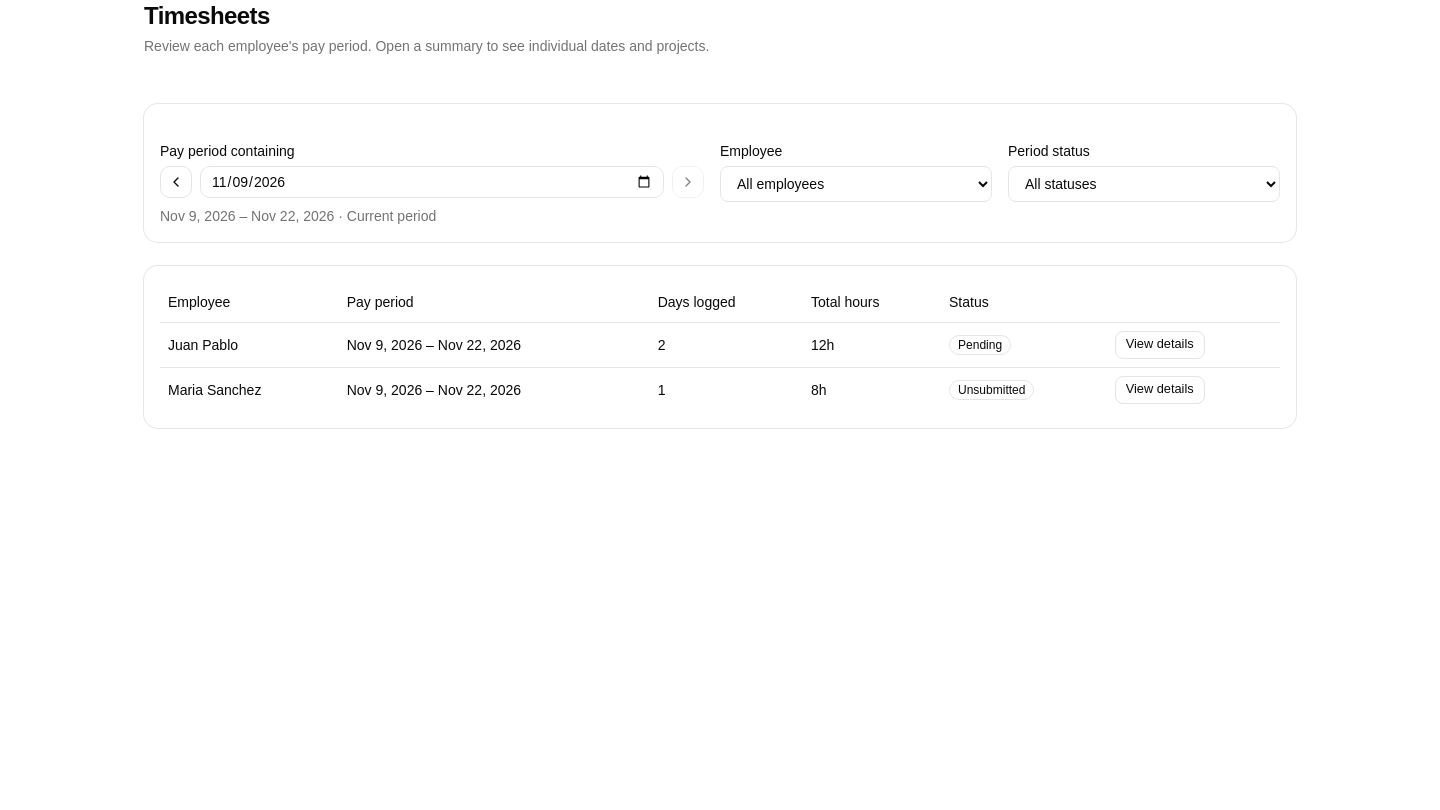
Test case: return for changes un-submits the employee’s period and updates its status
This screenshot has width=1440, height=810.
Click the button with aria-label "View Juan Pablo's timesheet details": (1160, 344) [1115,330,1205,358]
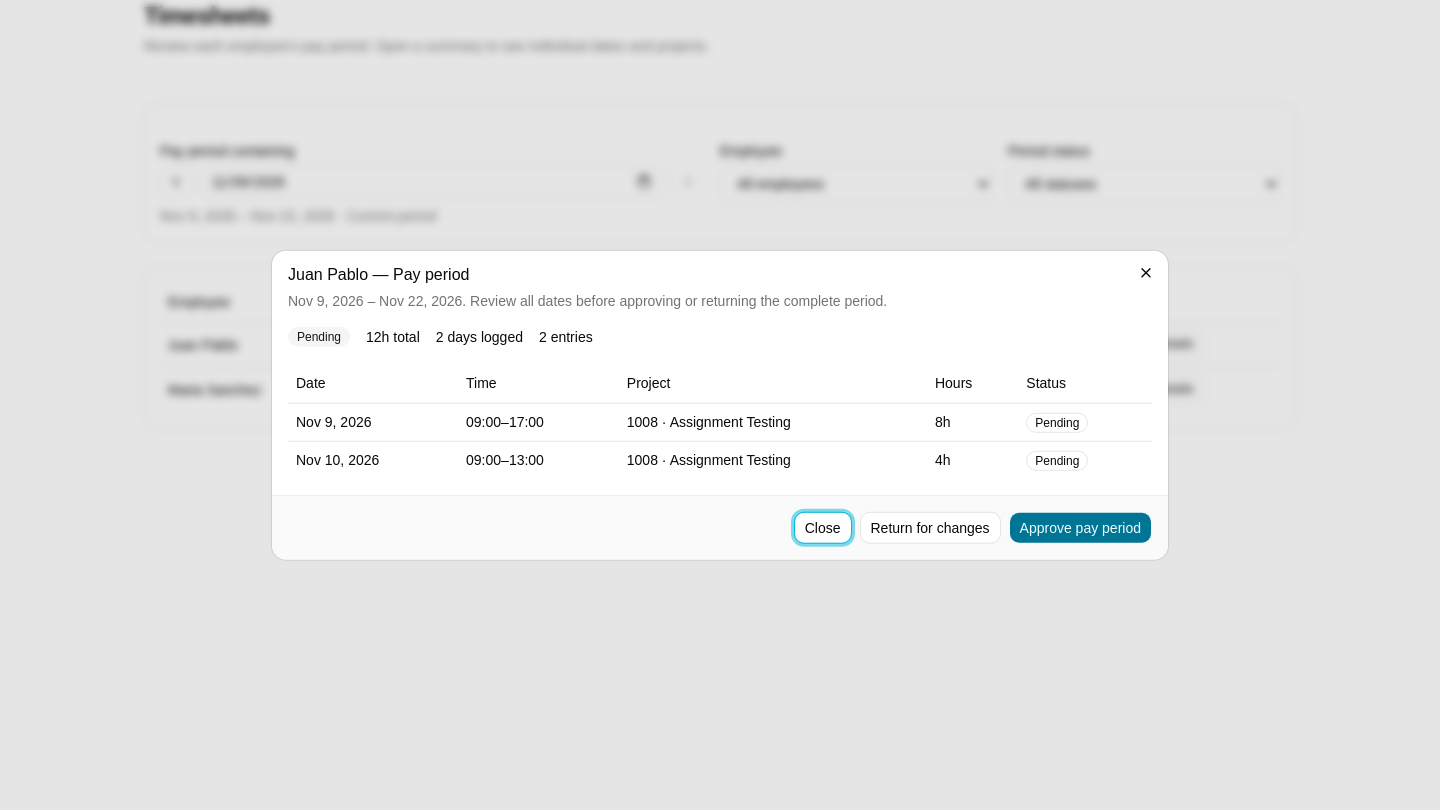
Click the button "Return for changes": (930, 527) [860,511,1001,543]
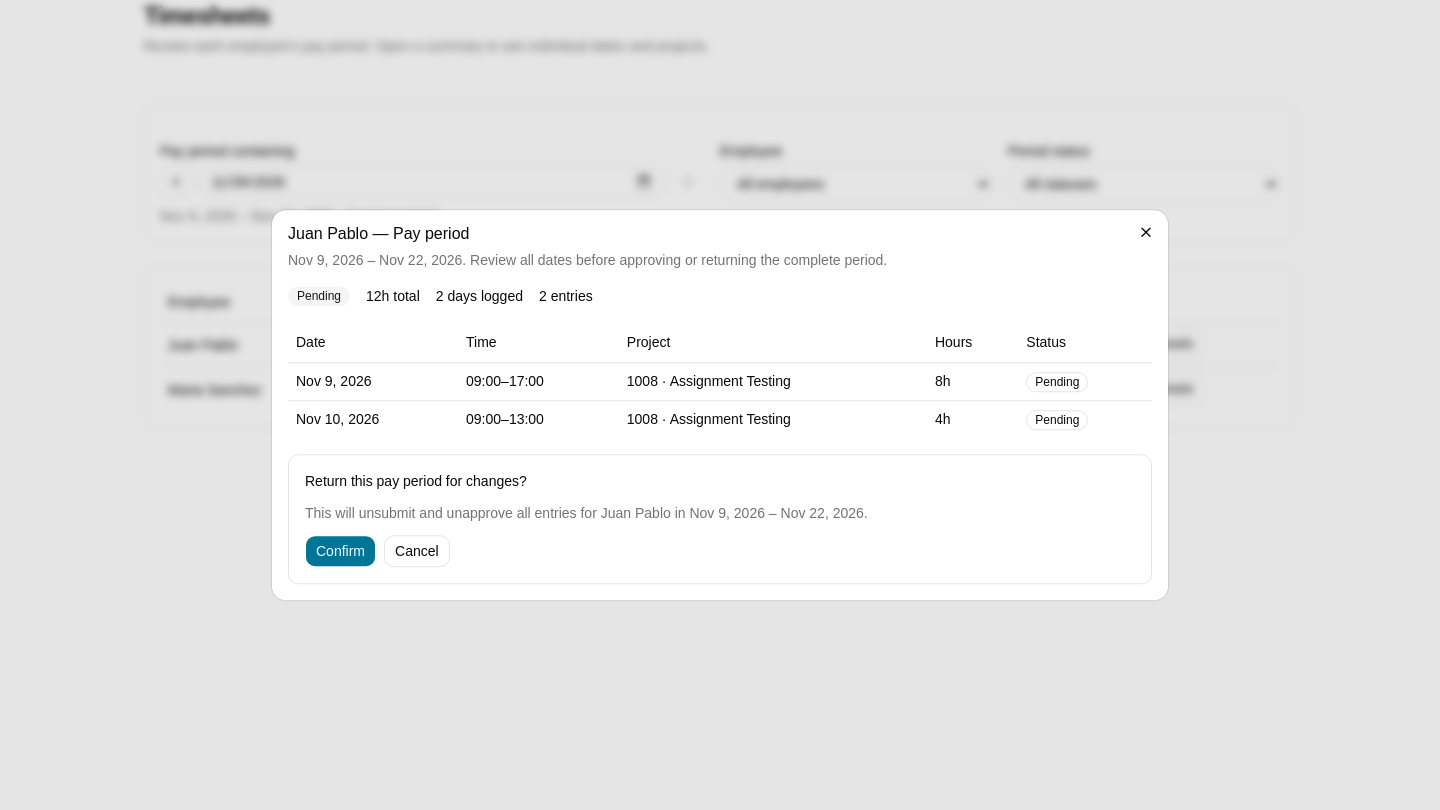
Click the button "Confirm": (340, 551) [305,535,376,567]
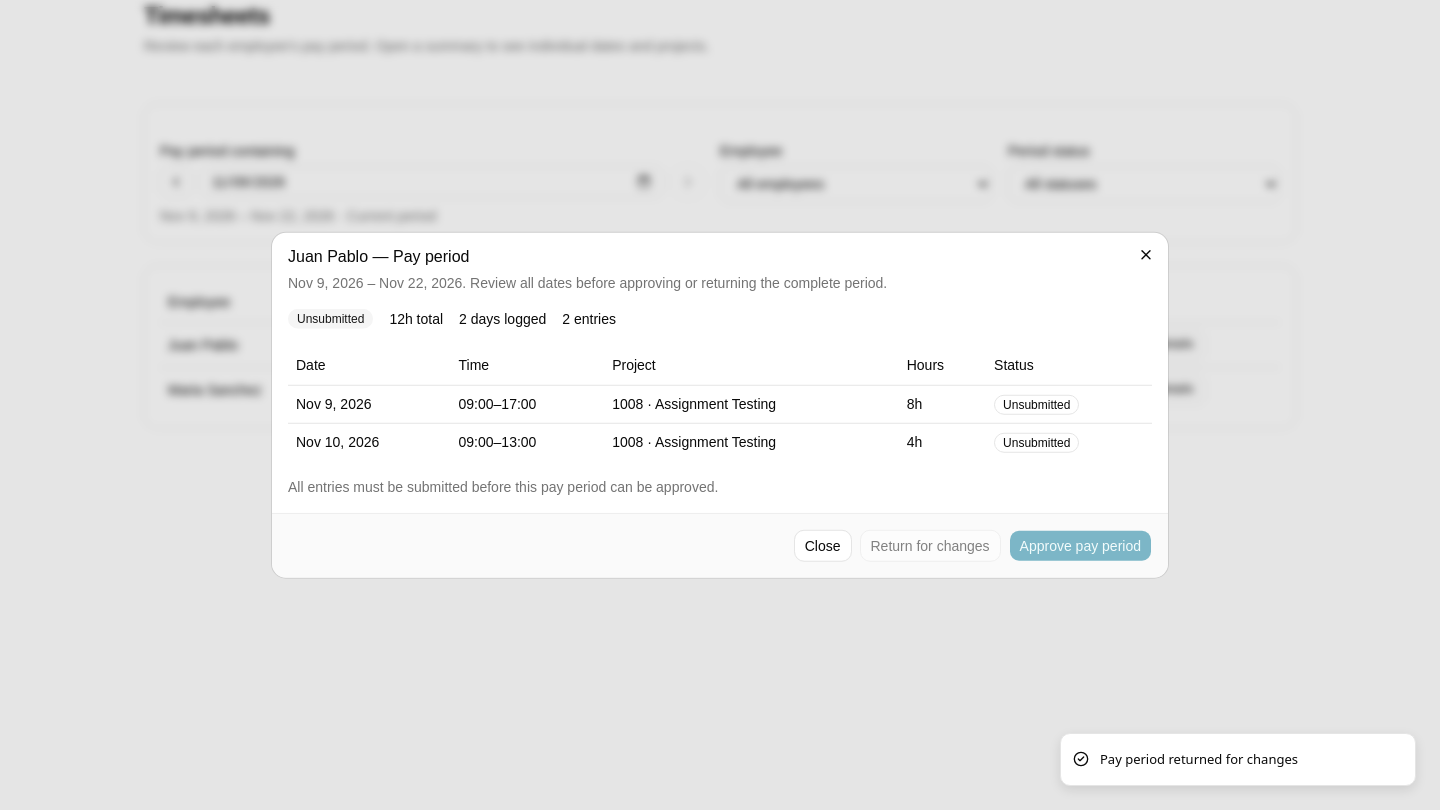
expect the text "Unsubmitted" is shown 3 times: met, box [288,309,373,329]; [994,394,1079,414]; [994,432,1079,452]
expect the button "Return for changes" is disabled: met, box [860,529,1001,561]
